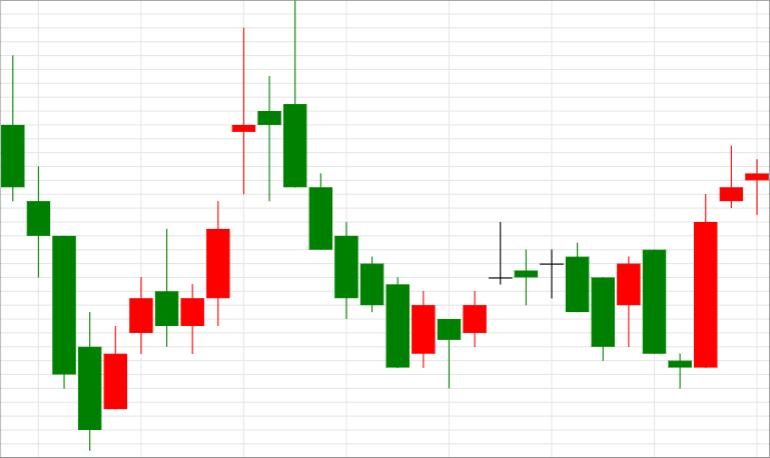three_black_crows_fall: (180, 1, 359, 354)
